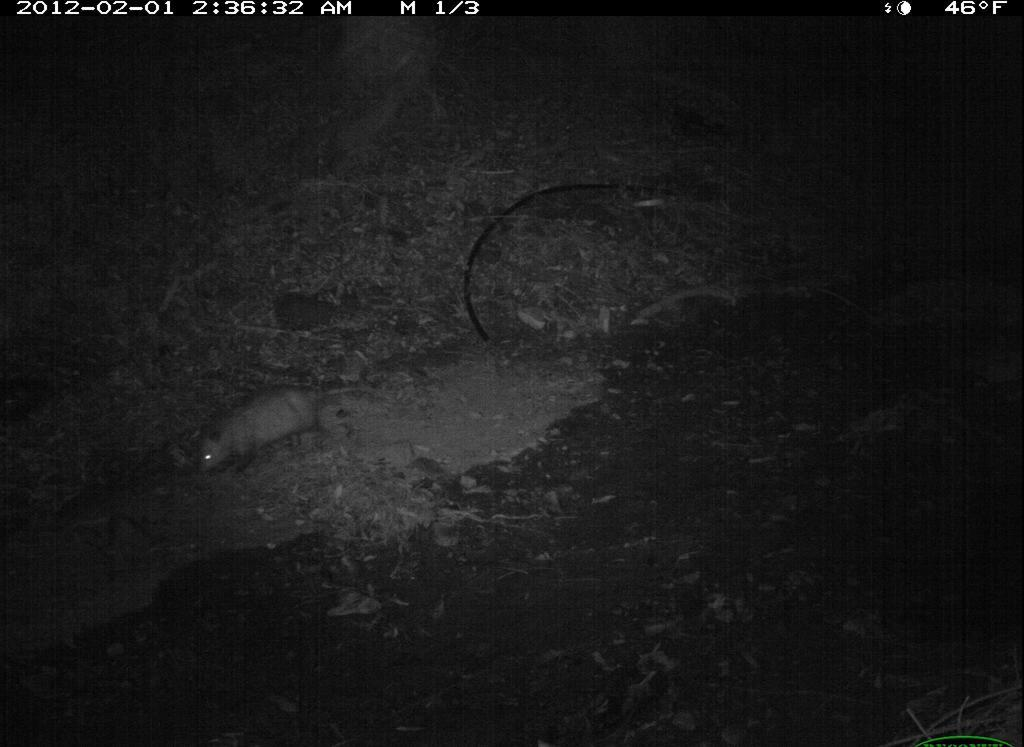opossum: (187, 378, 401, 479)
